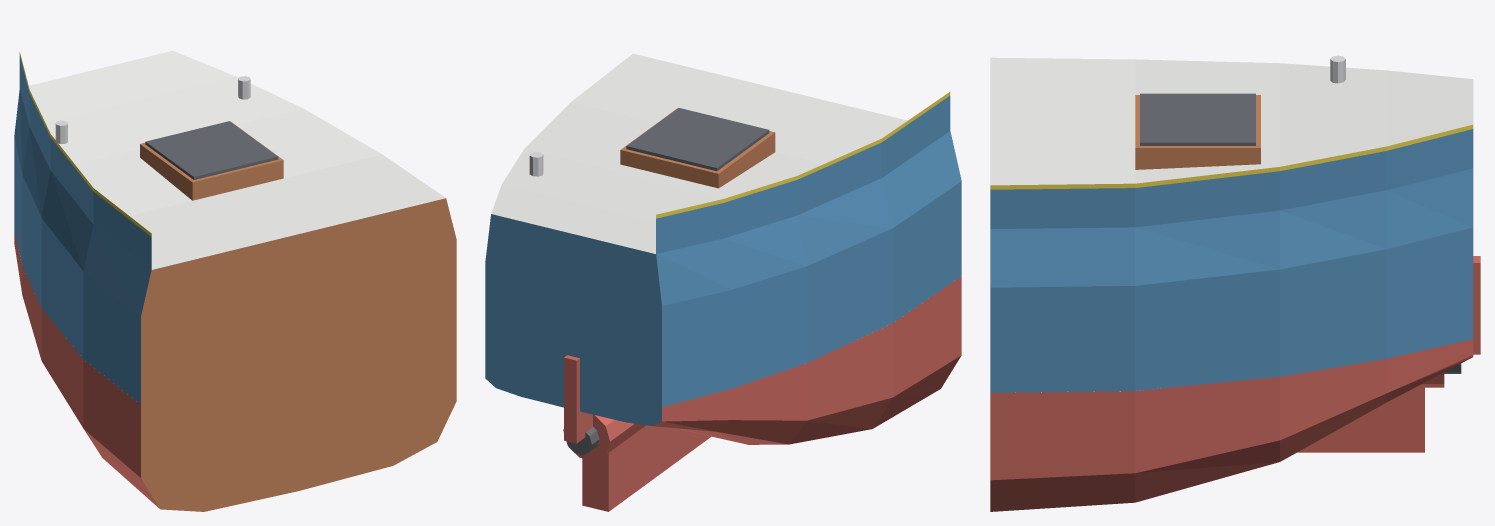
File: shipyard-and-dry-dock-shipyard-and-dry-dock-hull-secti-3ad89498__37924.glb
The picture shows the model from 3 angles, left to right: view 1: azimuth 30°, elevation 25°; view 2: azimuth 150°, elevation 25°; view 3: azimuth 270°, elevation 25°; orthographic projection. The views are drawn at different scales.
Visible parts, largest first — view 1: shipyard-and-dry-dock-hull-section-stern; view 2: shipyard-and-dry-dock-hull-section-stern; view 3: shipyard-and-dry-dock-hull-section-stern.
Part boxes in pixels (bbox=[...]): shipyard-and-dry-dock-hull-section-stern: bbox=[14, 50, 456, 511]; shipyard-and-dry-dock-hull-section-stern: bbox=[485, 53, 961, 511]; shipyard-and-dry-dock-hull-section-stern: bbox=[990, 55, 1480, 511].
Size of the model in its own units: 9 by 8.45 by 10.15.
